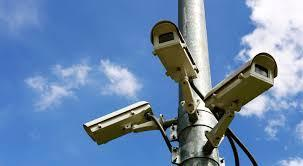tutu: (203, 47, 282, 118), (81, 98, 158, 150), (150, 16, 202, 87)
